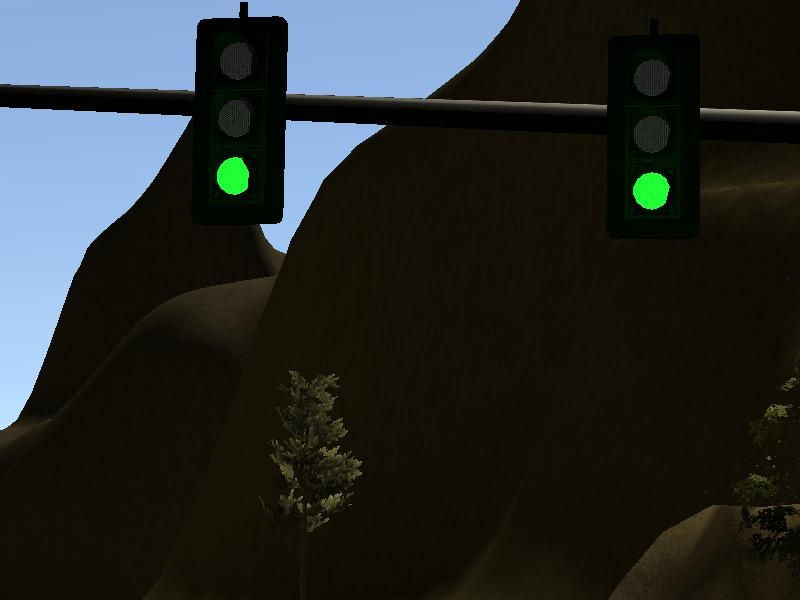GREEN: (193, 15, 289, 225), (605, 37, 706, 235)
